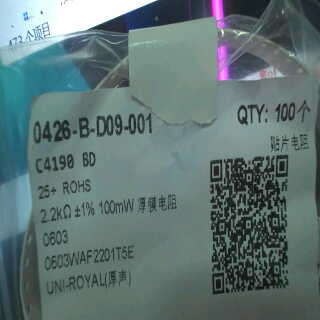2.2kR: (40, 203, 72, 227)
